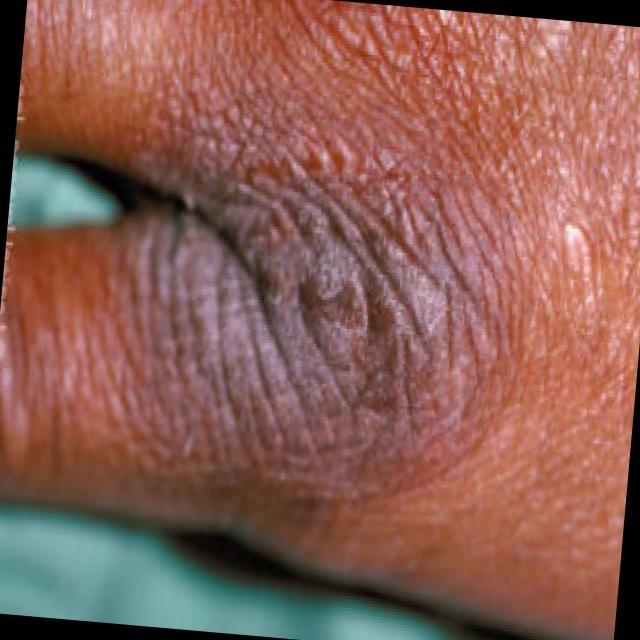Eczema: (115, 111, 512, 488)
